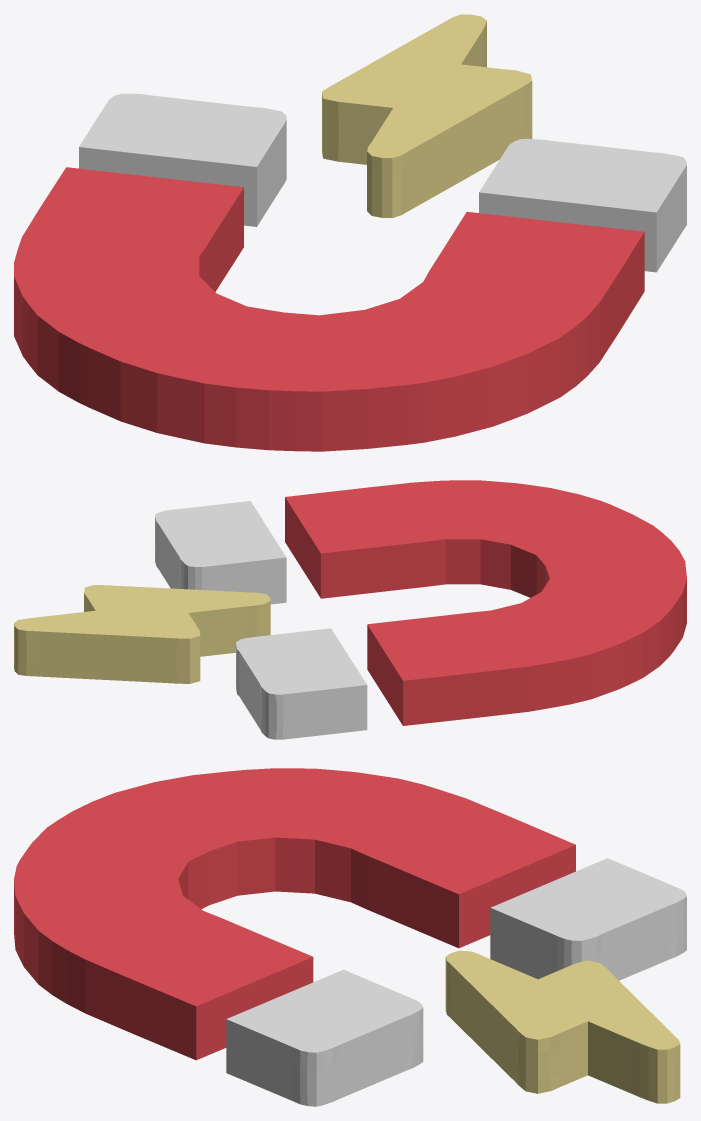
The model's file is fizikMIKNATIS.fbx.
The picture shows the model from 3 angles, top to bottom: view 1: azimuth 30°, elevation 25°; view 2: azimuth 150°, elevation 25°; view 3: azimuth 270°, elevation 25°; orthographic projection. The views are drawn at different scales.
Visible parts, largest first — view 1: Curve.007, Curve.008, Curve.009, Curve.010; view 2: Curve.007, Curve.008, Curve.009, Curve.010; view 3: Curve.007, Curve.008, Curve.010, Curve.009.
Part boxes in pixels (bbox=[...]): Curve.007: bbox=[14, 167, 644, 451]; Curve.008: bbox=[322, 14, 532, 217]; Curve.009: bbox=[79, 93, 286, 226]; Curve.010: bbox=[479, 138, 686, 272]; Curve.007: bbox=[285, 480, 686, 725]; Curve.008: bbox=[14, 585, 270, 683]; Curve.009: bbox=[236, 628, 367, 739]; Curve.010: bbox=[155, 501, 286, 604]; Curve.007: bbox=[14, 768, 575, 1060]; Curve.008: bbox=[445, 950, 680, 1103]; Curve.010: bbox=[226, 969, 423, 1106]; Curve.009: bbox=[490, 858, 686, 980].
Bounding box in the file's own units: 3.98 × 0.3524 × 3.98.
